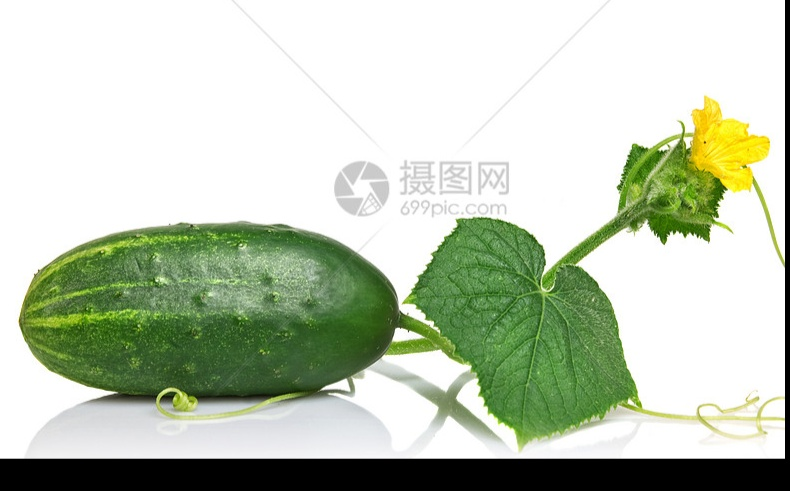cucumber: (18, 226, 402, 398)
cucumber_plant: (406, 76, 783, 437)
